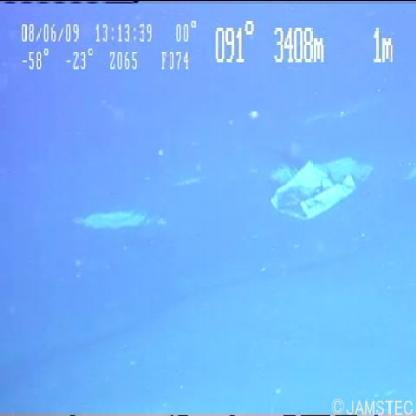Bio: (67, 196, 189, 234)
Rác: (257, 146, 390, 233)
